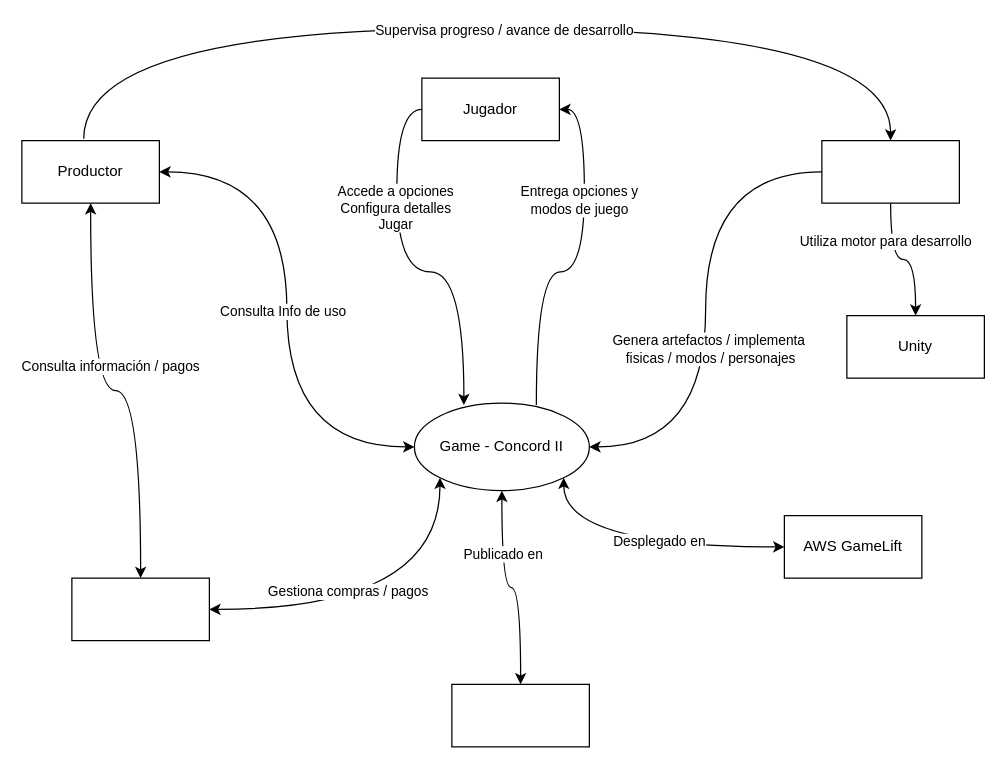
Some shapes in this 1006 by 769 pixel diagram are drawn without their labels. The shapes that lost their labels are listed below. From the top down, each one's centre as x and y in pixels, then its label:
At pixel 890 171: "Desarrollador".
At pixel 140 609: "Sistema de Pagos".
At pixel 520 715: "Steam".
